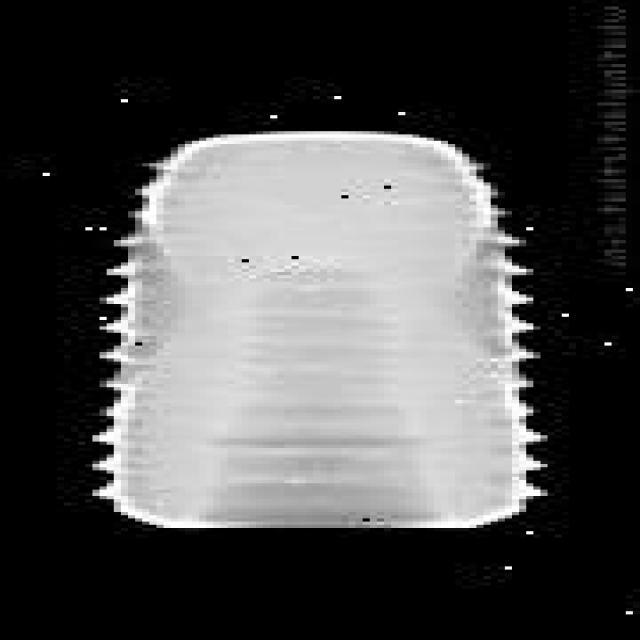Titan Implant Implant: (92, 131, 540, 528)
